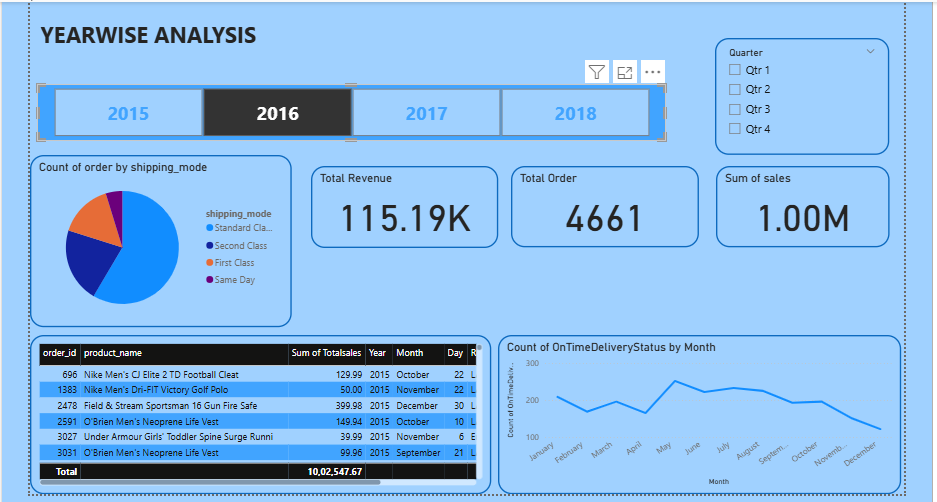

The dashboard page shown, as its layout file describes it:
{"tool":"powerbi","page":{"name":"Page 2","canvas":[1280,720],"ordinal":1},"visuals":[{"type":"lineChart","fields":{"Category":["sample-order-data.shipping_date.Variation.Date Hierarchy.Month"],"Y":["CountNonNull(sample-order-data.OnTimeDeliveryStatus)"]},"box":[684.9,487.3,589.8,232.7],"z":0},{"type":"slicer","fields":{"Values":["sample-order-data.shipping_date.Variation.Date Hierarchy.Year"]},"box":[10.2,120,920.5,83.4],"z":1000},{"type":"card","title":"Total Revenue ","fields":{"Values":["sample-order-data.TotalProfit per order"]},"box":[411.2,240,273.7,120],"z":2000},{"type":"card","title":"Total Order ","fields":{"Values":["Count(sample-order-data.order_id)"]},"box":[704.5,240.3,274.6,119.4],"z":3000},{"type":"pieChart","title":"Count of order by shipping_mode","fields":{"Category":["sample-order-data.shipping_mode"],"Y":["Count(sample-order-data.order_id)"]},"box":[0,223.9,383.4,251.7],"z":4000},{"type":"card","title":"Sum of sales","fields":{"Values":["Sum(sample-order-data.Totalsales)"]},"box":[1004.5,240.3,253.7,119.4],"z":5000},{"type":"tableEx","fields":{"Values":["sample-order-data.order_id","sample-order-data.product_name","Sum(sample-order-data.Totalsales)","sample-order-data.order_date.Variation.Date Hierarchy.Year","sample-order-data.order_date.Variation.Date Hierarchy.Month","sample-order-data.order_date.Variation.Date Hierarchy.Day","sample-order-data.Region","sample-order-data.Last 3 Month flag"]},"box":[0,487.3,674.6,232.7],"z":6000},{"type":"textbox","box":[10.2,20.5,528.3,58.5],"z":7000},{"type":"slicer","fields":{"Values":["sample-order-data.shipping_date.Variation.Date Hierarchy.Quarter"]},"box":[1002.4,52.7,254.6,171.2],"z":8000}]}

Visuals, with their boxes on the page's 1280x720 design canvas (x1, y1, x2, y2). These are canvas units, not pixel positions in the 937x502 screenshot, which may show the page scaled, cropped or inside an application window:
lineChart - sample-order-data.shipping_date.Variation.Date Hierarchy.Month x CountNonNull(sample-order-data.OnTimeDeliveryStatus): rect(685, 487, 1275, 720)
slicer - sample-order-data.shipping_date.Variation.Date Hierarchy.Year: rect(10, 120, 931, 203)
"Total Revenue " card: rect(411, 240, 685, 360)
"Total Order " card: rect(704, 240, 979, 360)
"Count of order by shipping_mode" pieChart: rect(0, 224, 383, 476)
"Sum of sales" card: rect(1004, 240, 1258, 360)
tableEx - sample-order-data.order_id x sample-order-data.product_name: rect(0, 487, 675, 720)
textbox: rect(10, 20, 538, 79)
slicer - sample-order-data.shipping_date.Variation.Date Hierarchy.Quarter: rect(1002, 53, 1257, 224)
